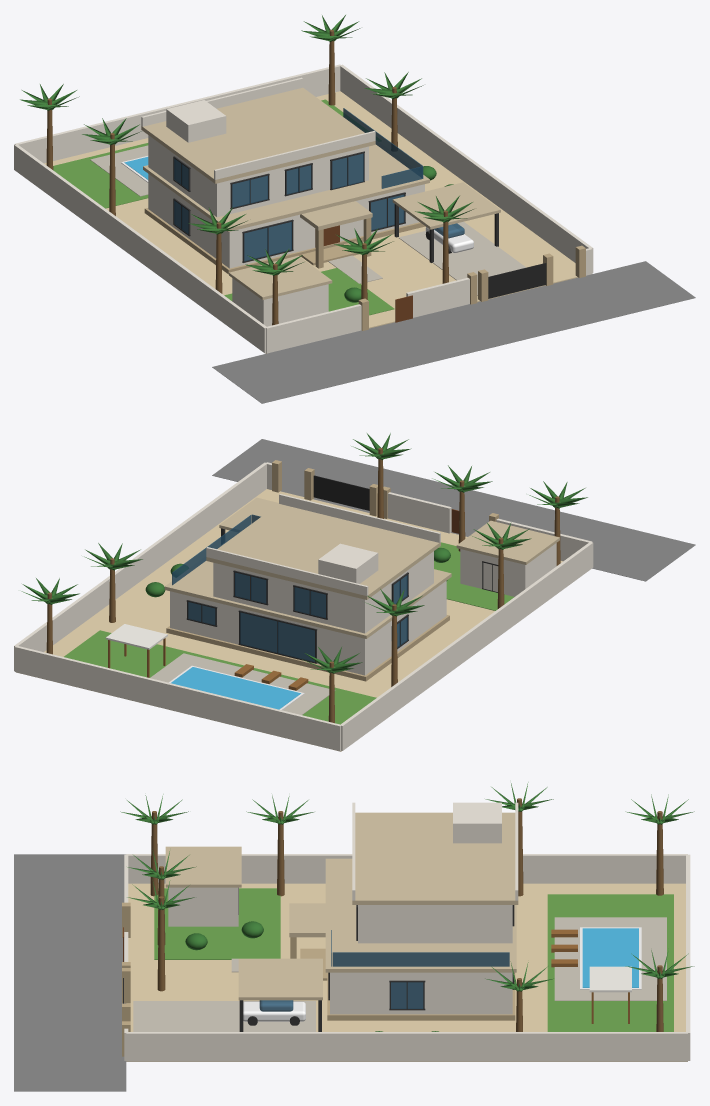
The model's file is villa-sample.glb.
3 views of the same model, one above another, from view 1: azimuth 30°, elevation 25°; view 2: azimuth 150°, elevation 25°; view 3: azimuth 270°, elevation 25° (orthographic). The views are drawn at different scales.
Visible parts, largest first — view 1: Street, Plot, First floor roof slab, Palm tree (×8), Boundary wall - left, Boundary wall - right, Ground floor, First floor, Ground floor roof slab, Boundary wall - back, Driveway, Boundary wall - front left (+21 smaller); view 2: Street, Plot, First floor roof slab, Boundary wall - back, Palm tree (×8), Boundary wall - left, Boundary wall - right, Ground floor, First floor, Back garden, Majlis annex, Family room glass wall (+18 smaller); view 3: Street, Plot, Boundary wall - right, First floor roof slab, Boundary wall - left, Back garden, Palm tree (×8), Ground floor, Ground floor roof slab, First floor, Front lawn, Pool deck (+14 smaller).
Part boxes in pixels (<box>): Street: <box>212,261,695,403</box>; Plot: <box>44,91,577,353</box>; First floor roof slab: <box>141,87,375,183</box>; Palm tree (×8): <box>20,15,473,325</box>; Boundary wall - left: <box>14,144,266,353</box>; Boundary wall - right: <box>340,64,593,272</box>; Ground floor: <box>148,174,424,268</box>; First floor: <box>148,135,368,217</box>; Ground floor roof slab: <box>143,142,429,231</box>; Boundary wall - back: <box>14,64,341,163</box>; Driveway: <box>398,221,525,295</box>; Boundary wall - front left: <box>265,304,361,353</box>; Street: <box>212,439,695,581</box>; Plot: <box>16,489,562,751</box>; First floor roof slab: <box>206,504,440,599</box>; Boundary wall - back: <box>14,646,341,751</box>; Palm tree (×8): <box>21,433,587,723</box>; Boundary wall - left: <box>341,542,593,750</box>; Boundary wall - right: <box>14,462,267,670</box>; Ground floor: <box>170,581,446,675</box>; First floor: <box>213,551,433,633</box>; Back garden: <box>64,630,376,724</box>; Majlis annex: <box>460,543,556,596</box>; Family room glass wall: <box>238,610,317,663</box>; Street: <box>14,854,126,1091</box>; Plot: <box>126,883,687,1061</box>; Boundary wall - right: <box>126,1032,687,1061</box>; First floor roof slab: <box>352,812,518,904</box>; Boundary wall - left: <box>126,854,687,883</box>; Back garden: <box>547,894,673,1031</box>; Palm tree (×8): <box>120,782,694,1031</box>; Ground floor: <box>330,972,512,1014</box>; Ground floor roof slab: <box>325,858,516,972</box>; First floor: <box>358,905,512,943</box>; Front lawn: <box>154,888,280,959</box>; Pool deck: <box>554,917,666,1000</box>.
Bounding box in the file's own units: 40 × 9.3 × 48.56.
